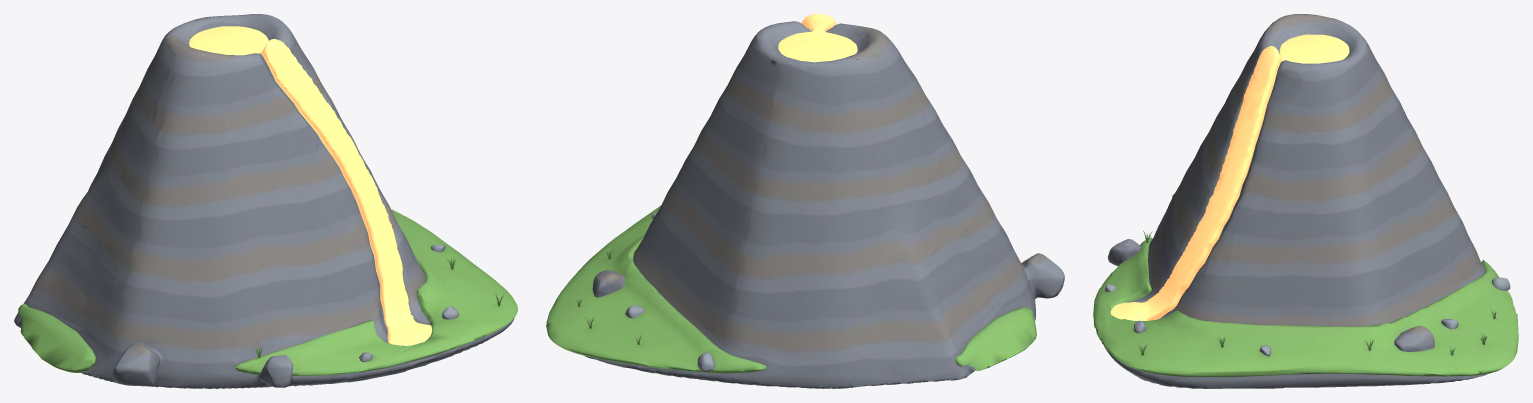
File: volcan.glb
3 renders of one model, left to right at view 1: azimuth 30°, elevation 25°; view 2: azimuth 150°, elevation 25°; view 3: azimuth 270°, elevation 25°, orthographic. The views are drawn at different scales.
Visible parts, largest first — view 1: volcano_body; view 2: volcano_body; view 3: volcano_body.
Boxes of the visible parts, left/top/right/bottom form: volcano_body: left=14, top=14, right=517, bottom=388; volcano_body: left=546, top=14, right=1064, bottom=388; volcano_body: left=1093, top=14, right=1518, bottom=388.
Bounding box in the file's own units: 9.96 × 6.5 × 9.71.
2 materials, 1 textured.
